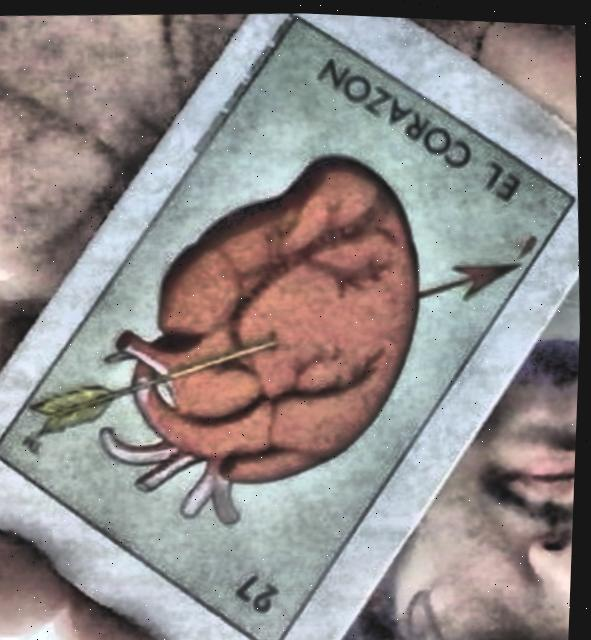El Corazon: (0, 12, 575, 640)
